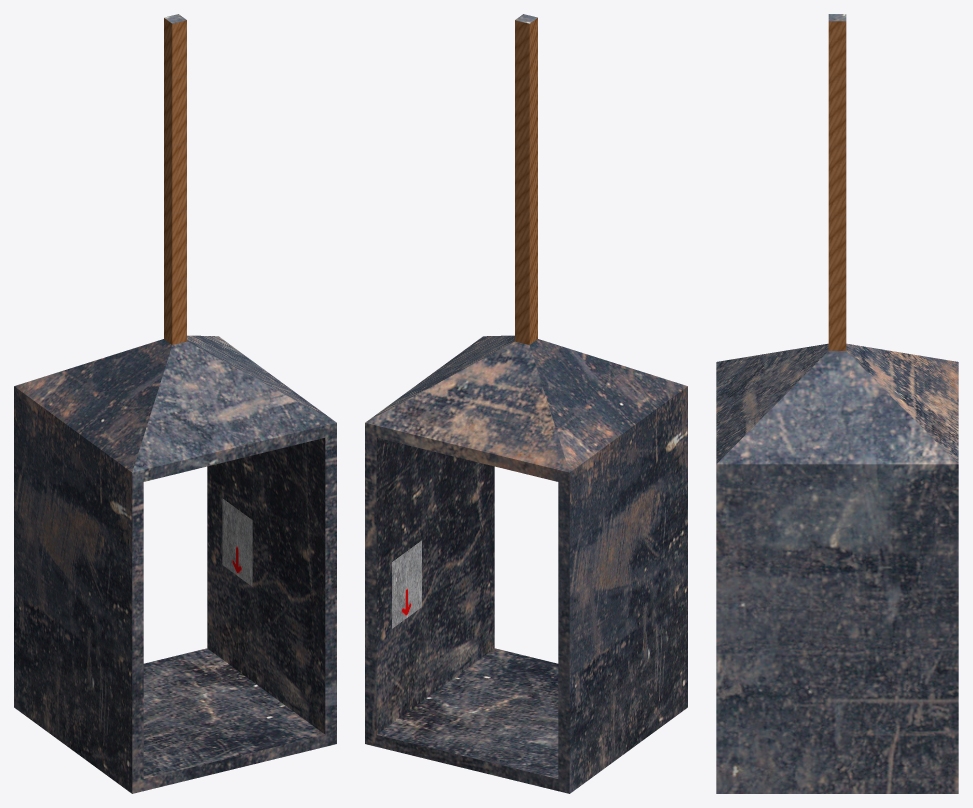
File: elevator.fbx
The picture shows the model from 3 angles, left to right: view 1: azimuth 30°, elevation 25°; view 2: azimuth 150°, elevation 25°; view 3: azimuth 270°, elevation 25°; orthographic projection. The views are drawn at different scales.
Visible parts, largest first — view 1: elevator; view 2: elevator; view 3: elevator.
Boxes of the visible parts, x1=… form: elevator: x1=14, y1=14, x2=336, y2=793; elevator: x1=365, y1=14, x2=687, y2=793; elevator: x1=716, y1=14, x2=958, y2=793.
Size of the model in its own units: 200 by 660 by 200.
